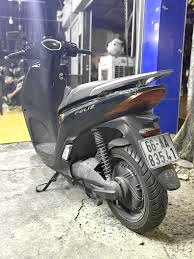Bien-so: (140, 126, 183, 164)
